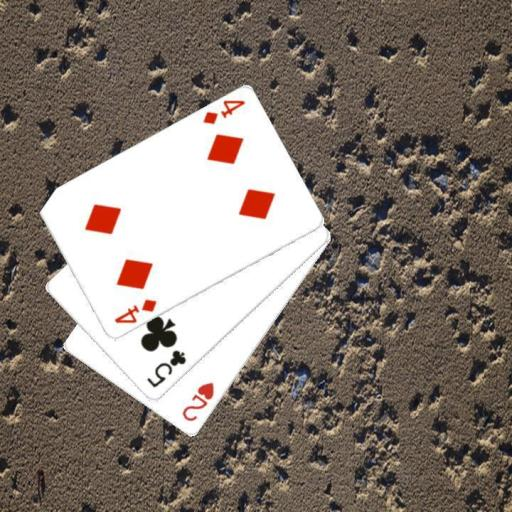card-corner: (144, 347, 188, 390), (179, 379, 216, 424), (199, 96, 247, 126), (111, 296, 158, 326)
